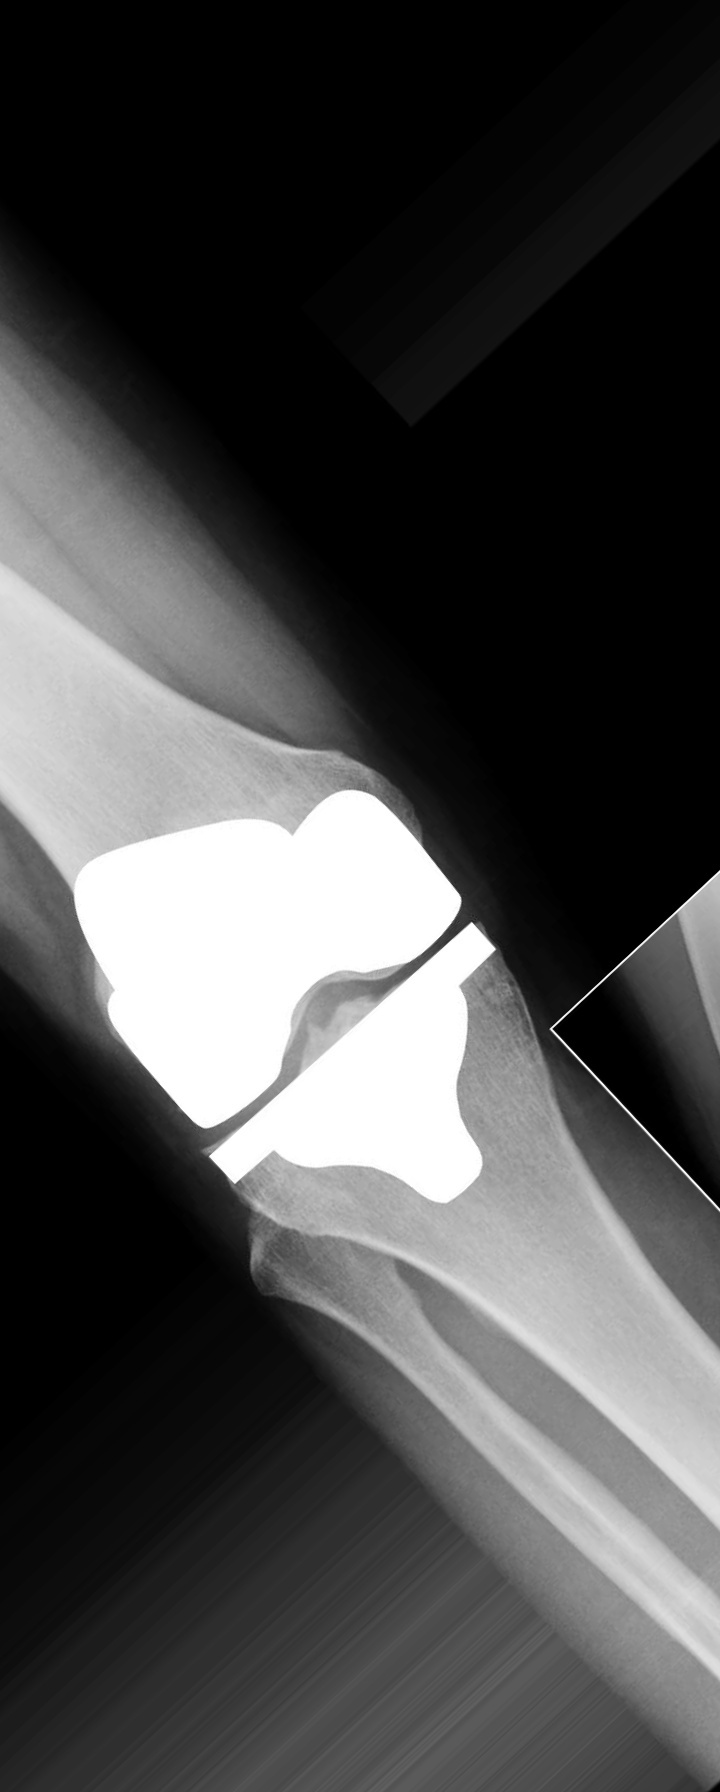Knee-Triathlon-Stryker: (55, 792, 498, 1211)
